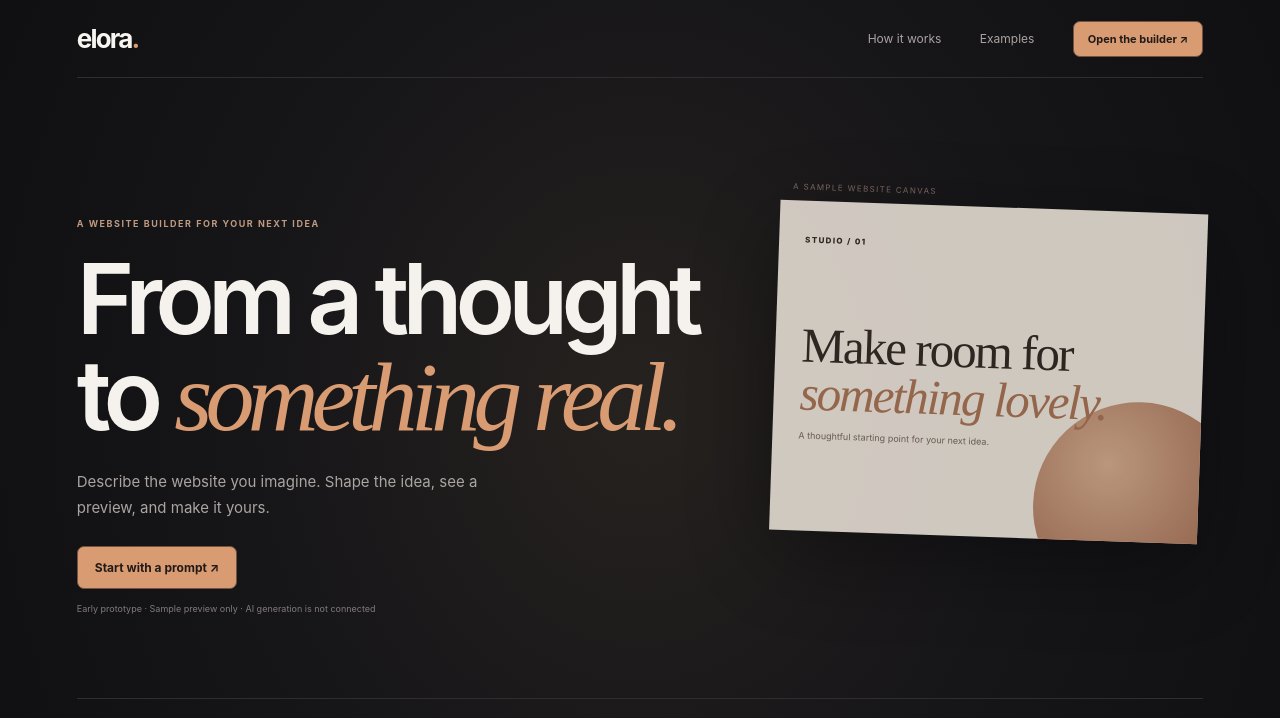
Test: builder prototype › shows the validated restaurant WebsiteSpec in the builder before prompt entry
Click the button "Open the builder ↗" at (1138, 38), box x1=1073 y1=20 x2=1203 y2=56
(page scrolled)
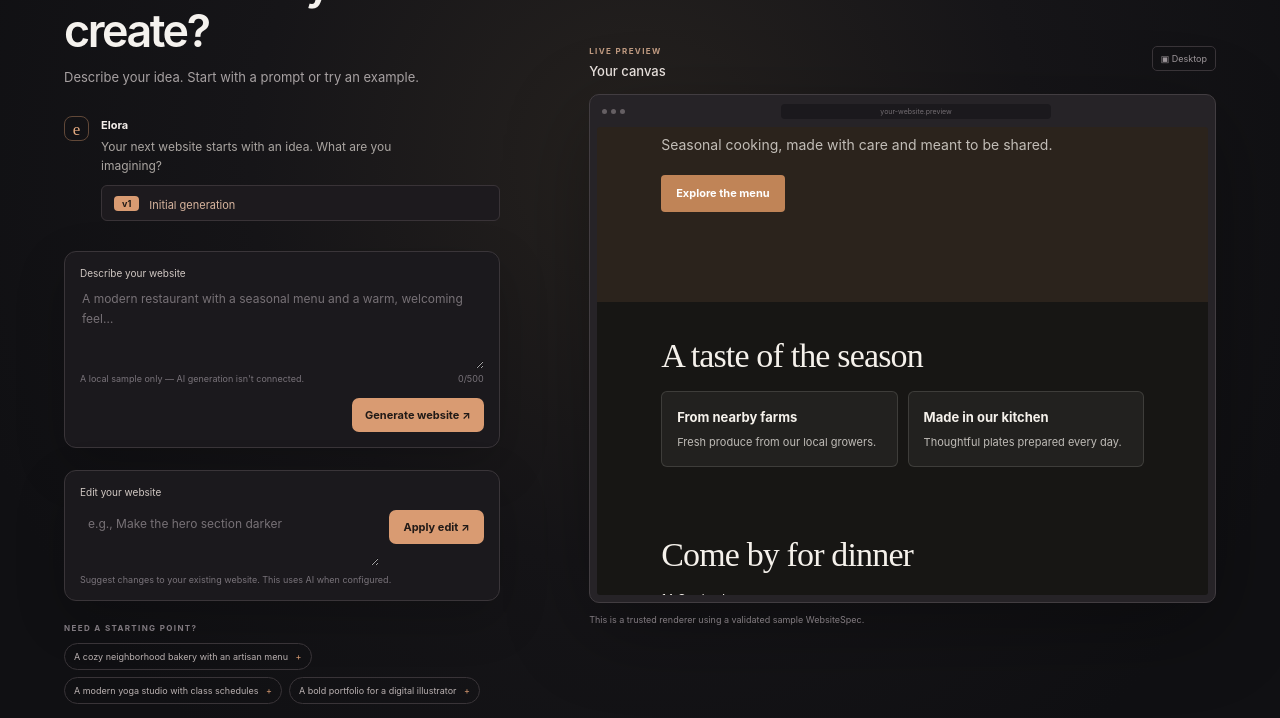
Check: the heading "A taste of the season" is shown, box x1=661 y1=337 x2=923 y2=374
